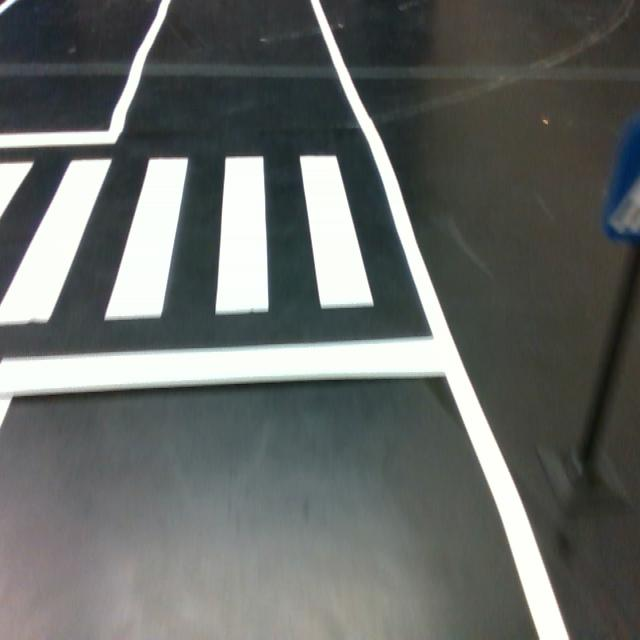crosswalk-sign: (598, 108, 640, 243)
